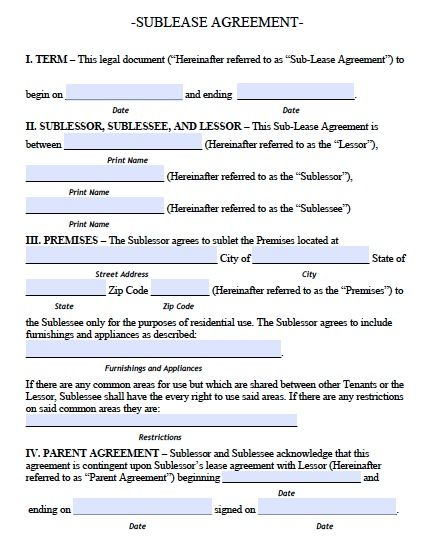textline: (23, 339, 283, 362), (24, 414, 300, 431), (24, 243, 219, 267), (60, 132, 206, 155), (255, 499, 400, 521), (20, 164, 169, 185), (24, 195, 165, 217), (67, 500, 218, 519), (249, 245, 372, 268), (233, 83, 353, 104), (65, 82, 183, 103), (24, 277, 109, 300), (219, 473, 363, 486), (147, 280, 212, 300)
